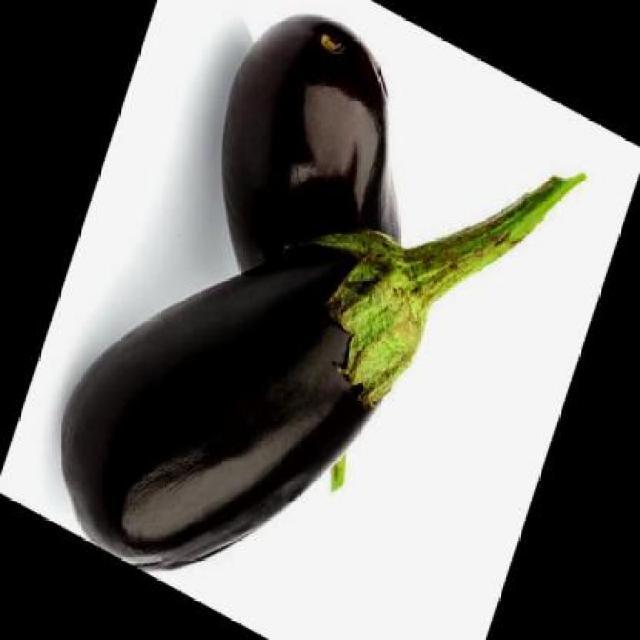eggplant: (56, 163, 588, 575), (220, 12, 406, 314)
